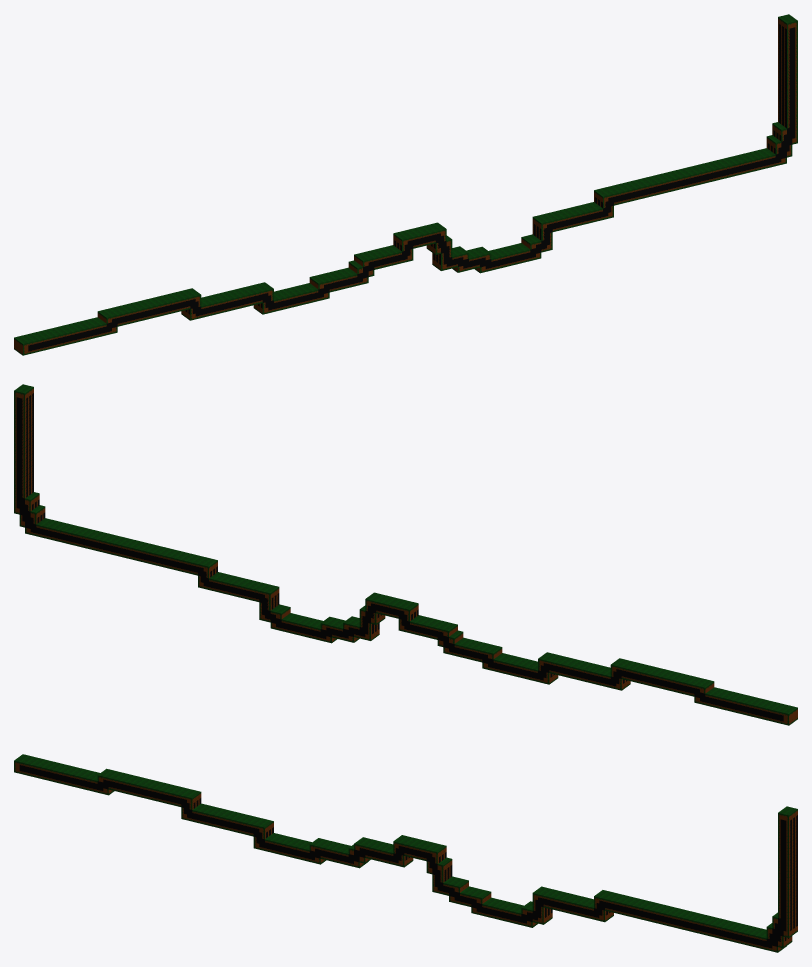
Rendered from Luna0CharsSolo.glb.
The picture shows the model from 3 angles, top to bottom: view 1: azimuth 30°, elevation 25°; view 2: azimuth 150°, elevation 25°; view 3: azimuth 330°, elevation 25°; orthographic projection.
Parts seen in each view (by area): view 1: Setor_2, Setor_1, Setor_0, Setor_3, Setor_4; view 2: Setor_2, Setor_1, Setor_0, Setor_3, Setor_4; view 3: Setor_2, Setor_1, Setor_0, Setor_3, Setor_4.
Boxes of the visible parts, x1,y1,x2,y2 form: Setor_2: (371, 213, 558, 273); Setor_1: (201, 250, 379, 317); Setor_0: (14, 288, 201, 355); Setor_3: (549, 157, 736, 230); Setor_4: (728, 14, 797, 175); Setor_2: (253, 583, 440, 643); Setor_1: (432, 620, 610, 687); Setor_0: (610, 658, 797, 725); Setor_3: (75, 527, 262, 600); Setor_4: (14, 384, 83, 545); Setor_2: (371, 835, 557, 927); Setor_1: (192, 792, 379, 868); Setor_0: (14, 754, 200, 821); Setor_3: (549, 890, 736, 940); Setor_4: (727, 806, 797, 952).
Size of the model in its own units: 145 by 31.2 by 2.88.
1 material, 1 textured.
